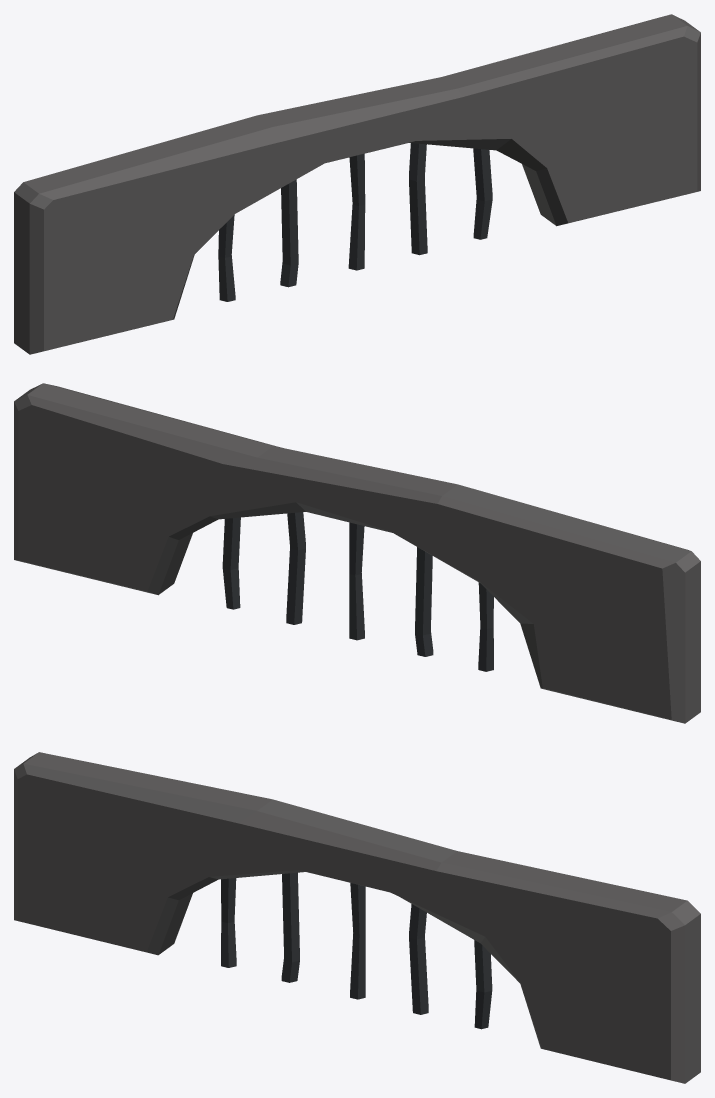
Rendered from SM_Env_Sewer_Canal_Drain_01.fbx.
3 renders of one model, top to bottom at view 1: azimuth 30°, elevation 25°; view 2: azimuth 150°, elevation 25°; view 3: azimuth 330°, elevation 25°, orthographic.
Visible parts, largest first — view 1: SM_Env_Sewer_Canal_Drain_01; view 2: SM_Env_Sewer_Canal_Drain_01; view 3: SM_Env_Sewer_Canal_Drain_01.
Boxes of the visible parts, x1,y1,x2,y2 form: SM_Env_Sewer_Canal_Drain_01: (14,14,700,354); SM_Env_Sewer_Canal_Drain_01: (14,383,700,723); SM_Env_Sewer_Canal_Drain_01: (14,752,700,1083).
Bounding box in the file's own units: 4.77 × 1.14 × 0.315.
